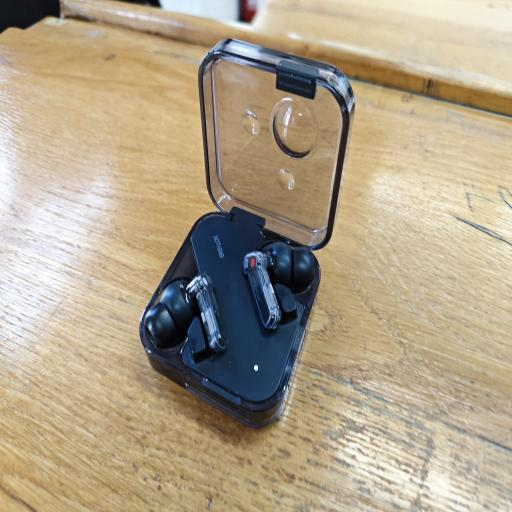Headphones: (137, 32, 356, 435)
